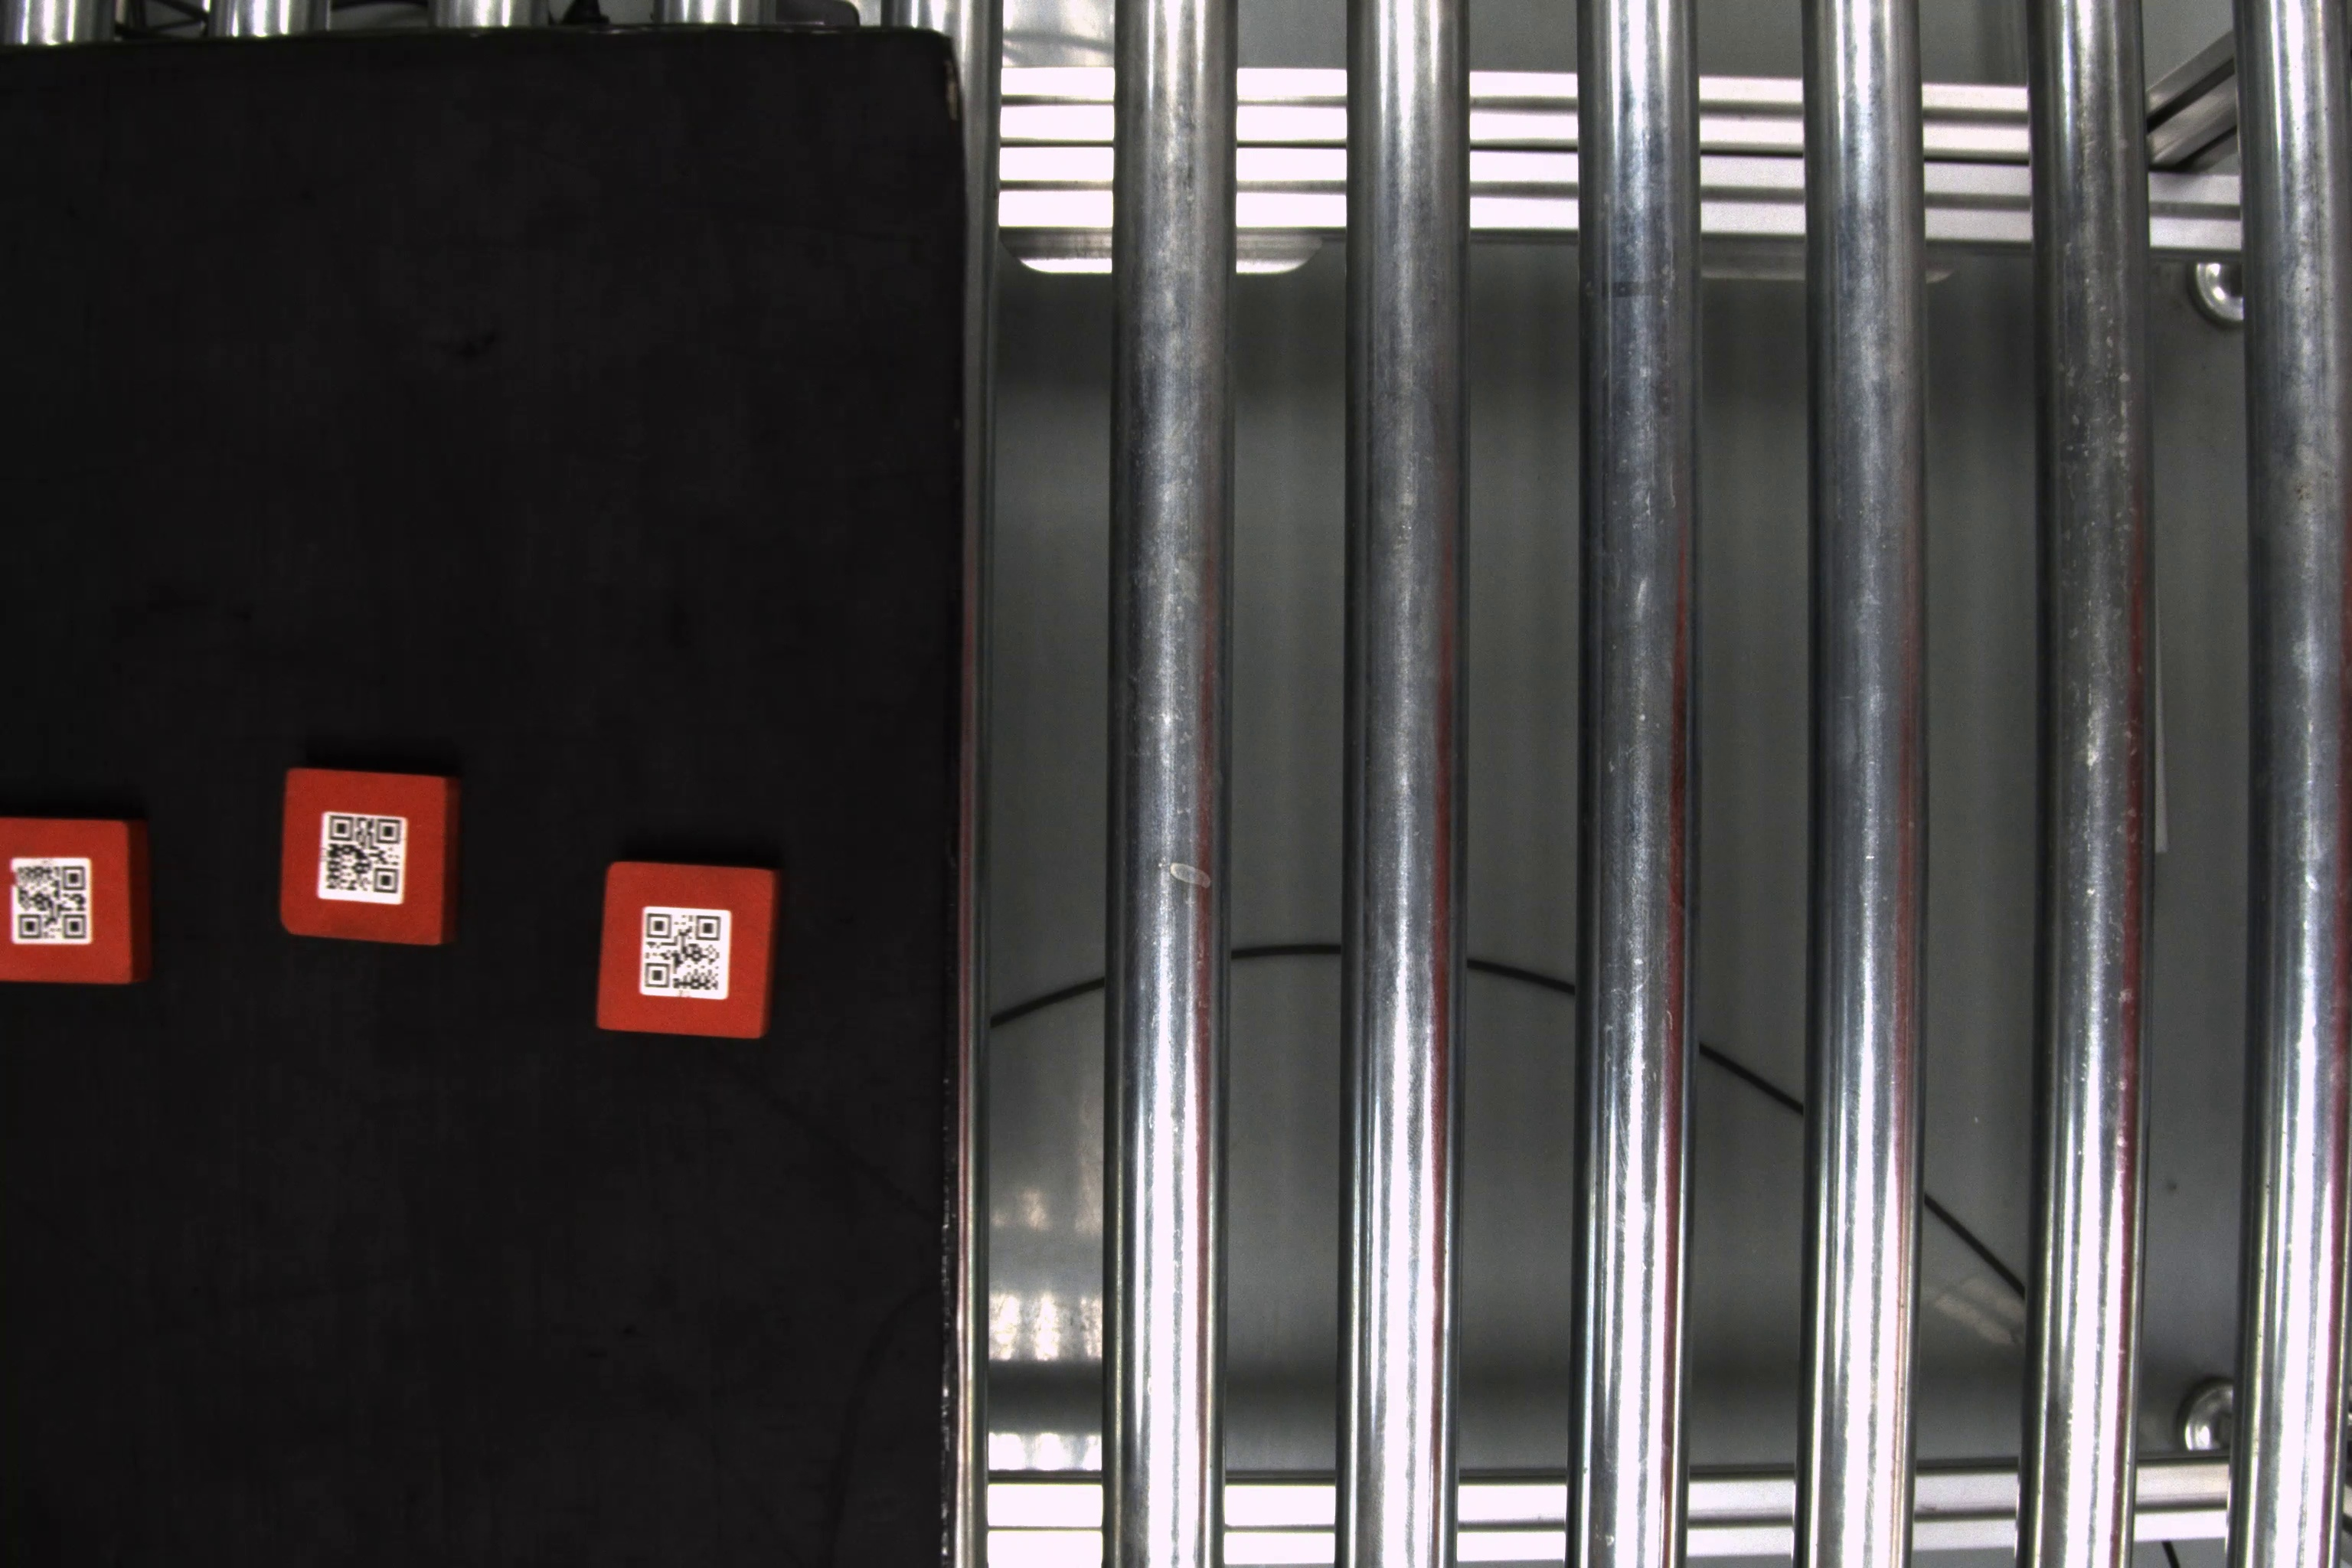wood: (273, 759, 467, 954), (600, 852, 779, 1045), (3, 807, 163, 992)
